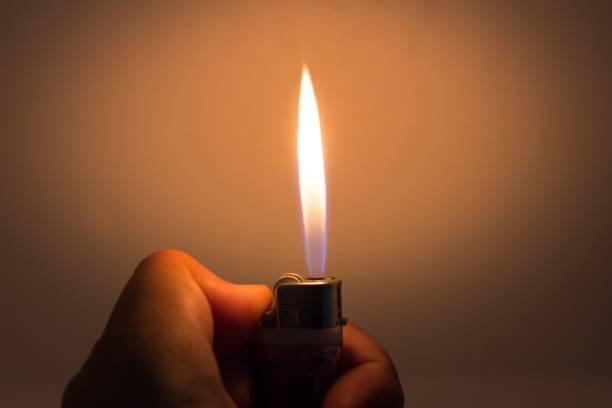Fire: (290, 60, 338, 280)
